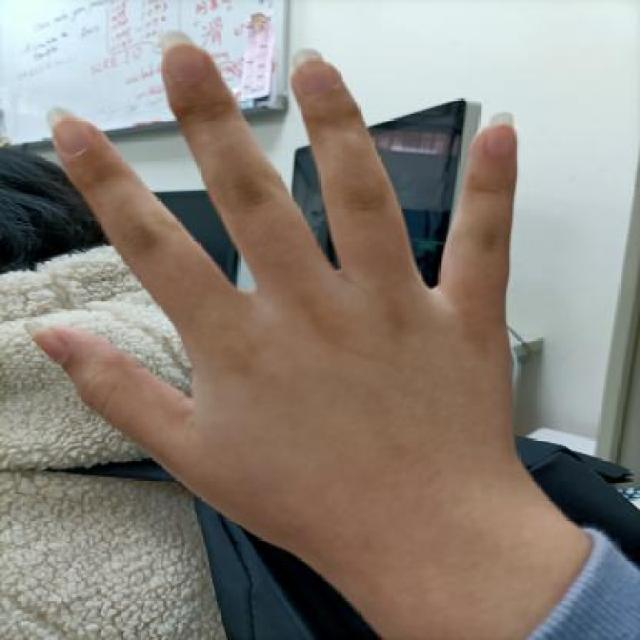bare_hand: (9, 11, 591, 618)
